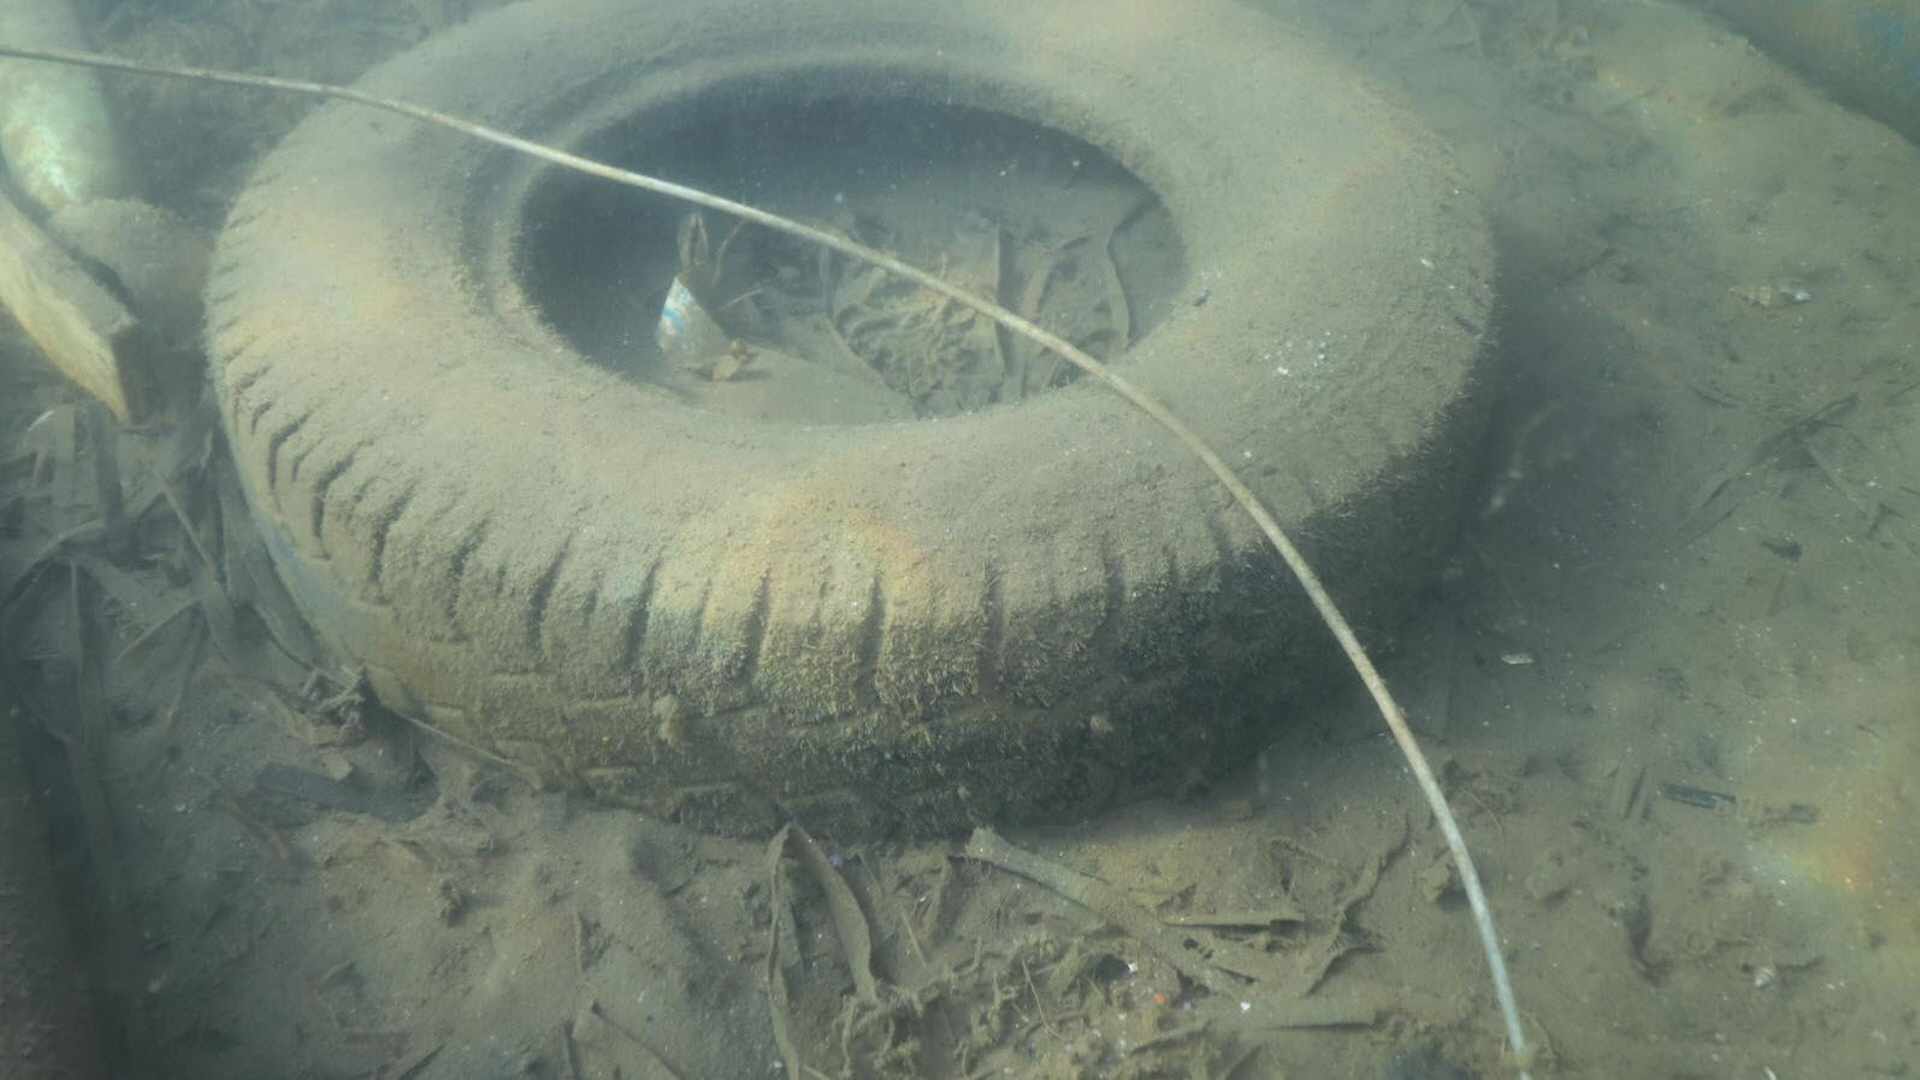tire: (196, 0, 1509, 847)
